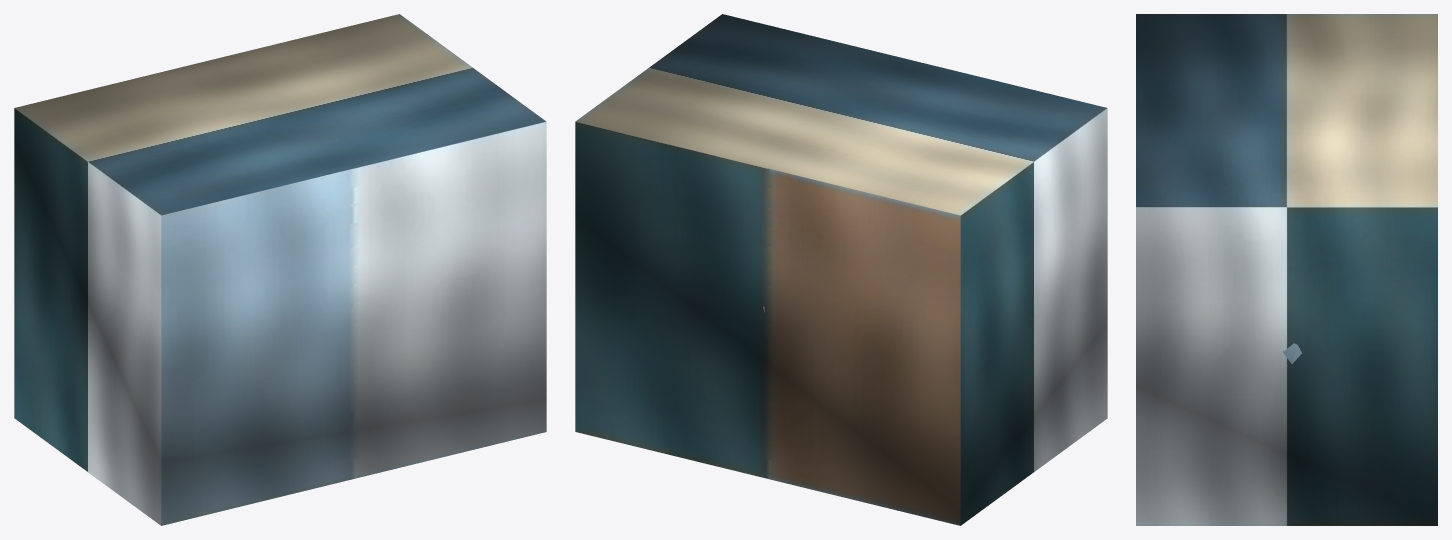
Rendered from rock_snow_c.glb.
3 views of the same model, side by side, from view 1: azimuth 30°, elevation 25°; view 2: azimuth 150°, elevation 25°; view 3: azimuth 270°, elevation 25° (orthographic). The views are drawn at different scales.
Visible parts, largest first — view 1: col; view 2: col; view 3: col.
Boxes of the visible parts, <box> form: col: <box>14,14,546,525</box>; col: <box>575,14,1107,525</box>; col: <box>1136,14,1437,525</box>.
Bounding box in the file's own units: 2.54 × 1.95 × 1.67.
Materials: 1 (1 with a texture image).
